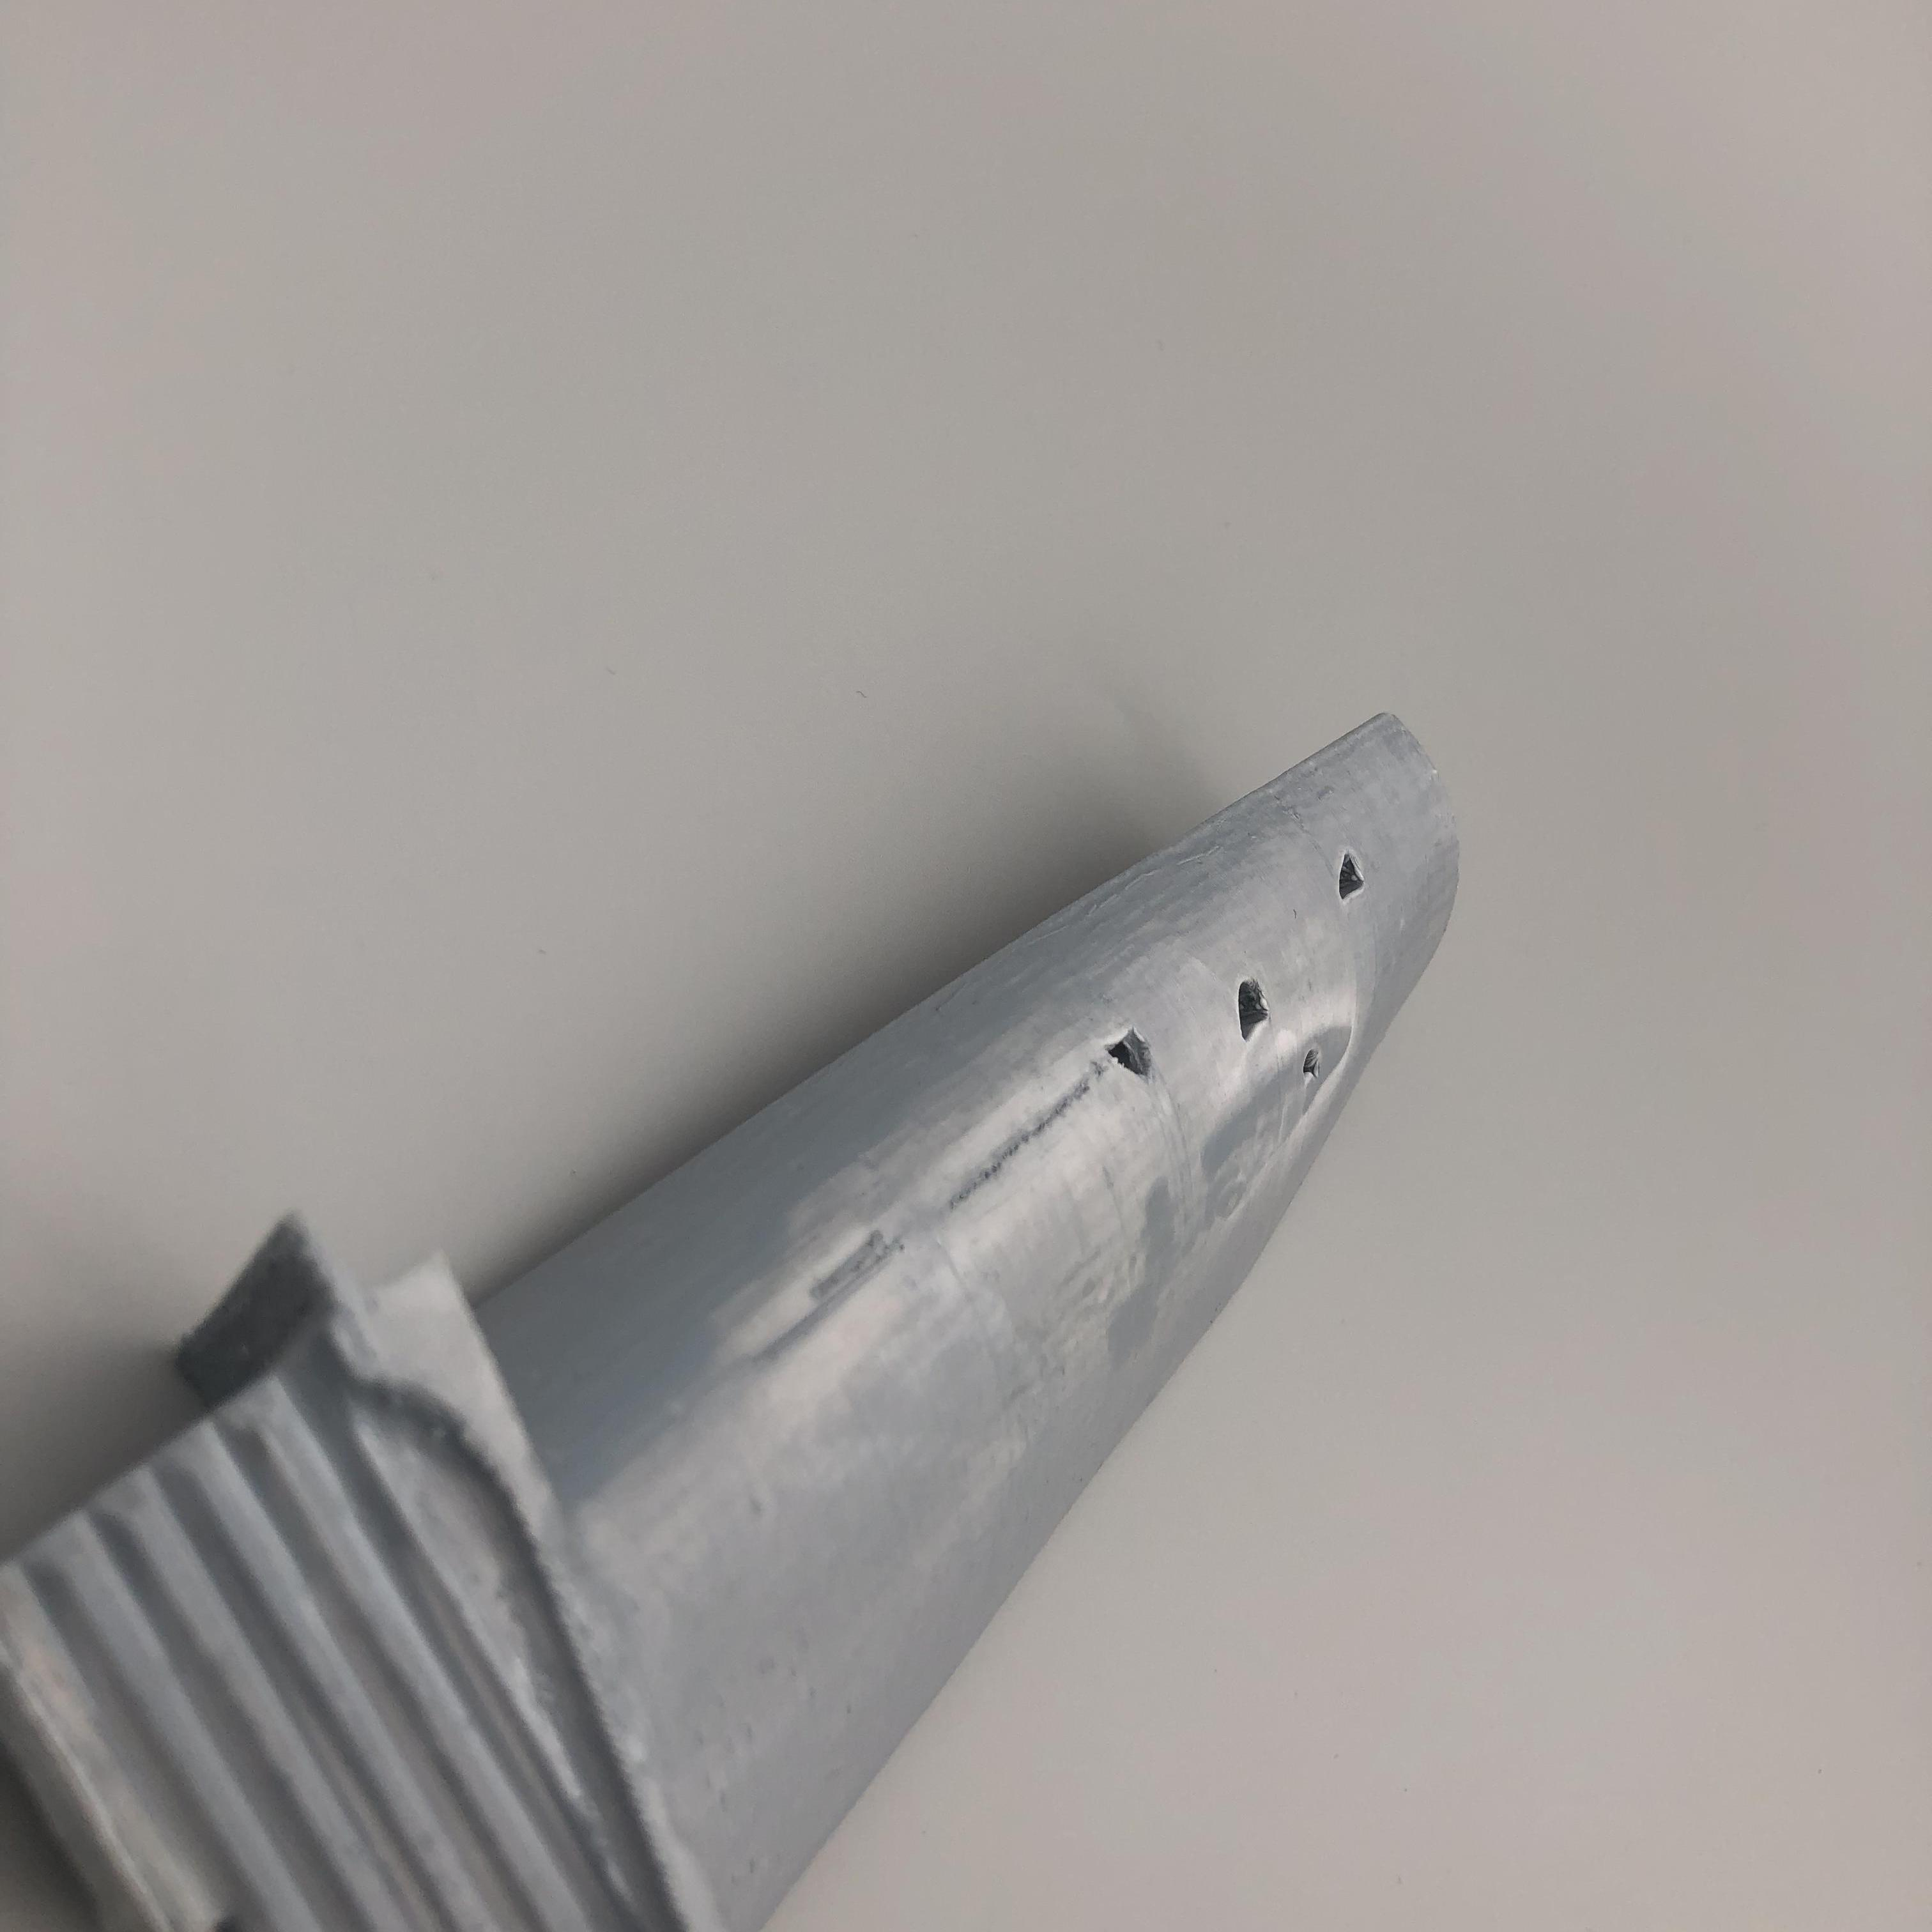breakdown: (1100, 968, 1339, 1104), (1320, 847, 1396, 909)
